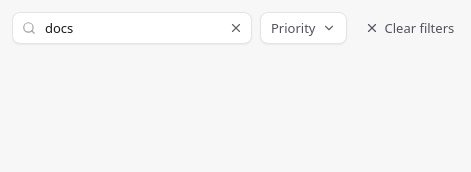
Test: FilterBar › shows the query from the URL and clears it on Escape
Click the search field named "Search tasks" at (132, 28), box [12,12,252,44]
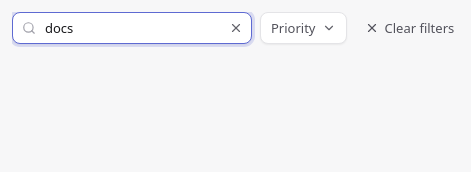
Press Escape
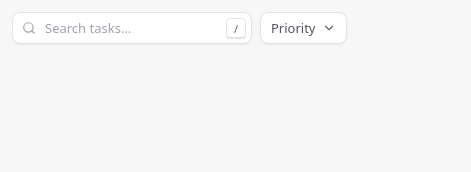
Check: the search field labelled "Search tasks" is empty, box [12,12,252,44]
